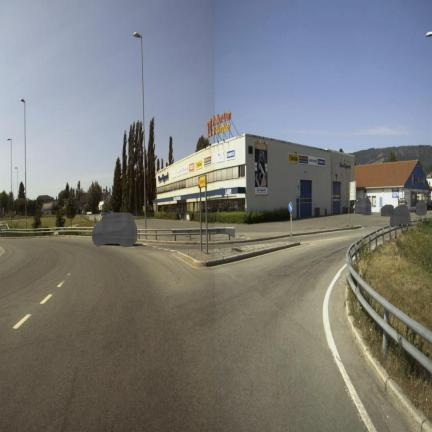Road: (0, 229, 366, 430)
